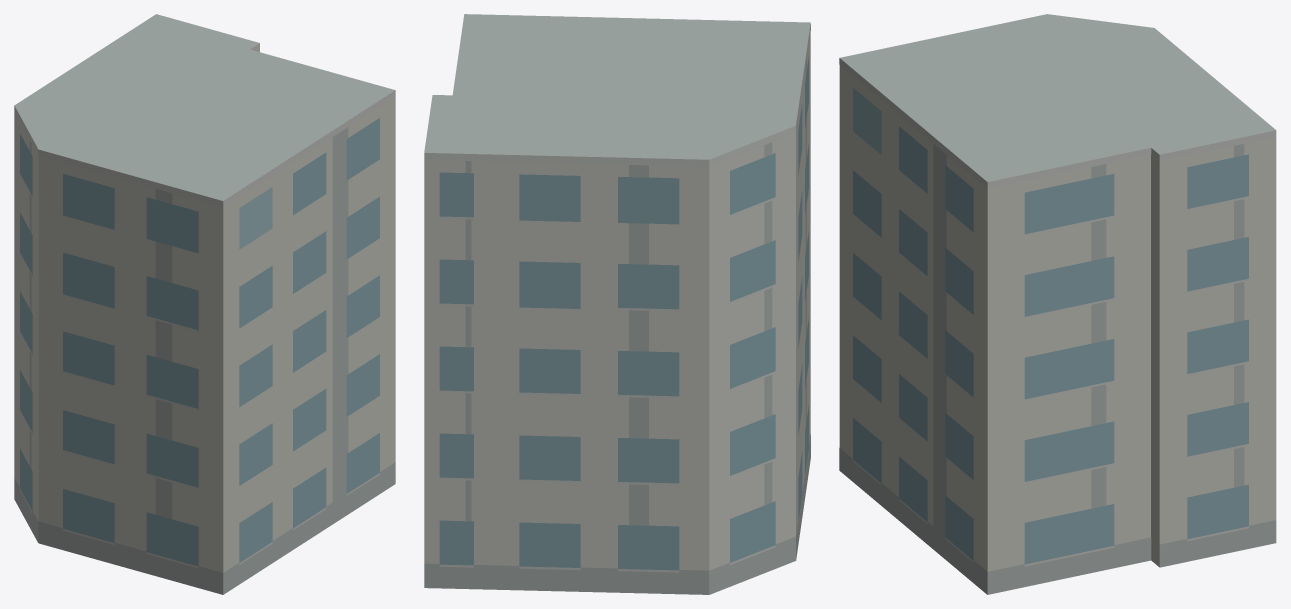
File: survey-upis-32918865.glb
3 renders of one model, left to right at view 1: azimuth 30°, elevation 25°; view 2: azimuth 150°, elevation 25°; view 3: azimuth 270°, elevation 25°, orthographic. The views are drawn at different scales.
Visible parts, largest first — view 1: survey-upis-32918865.tmp; view 2: survey-upis-32918865.tmp; view 3: survey-upis-32918865.tmp.
Part boxes in pixels (x1,y1,x2,y2): survey-upis-32918865.tmp: (14, 14, 395, 594); survey-upis-32918865.tmp: (424, 14, 810, 594); survey-upis-32918865.tmp: (839, 14, 1276, 594).
Size of the model in its own units: 12.93 by 14.8 by 14.2.
